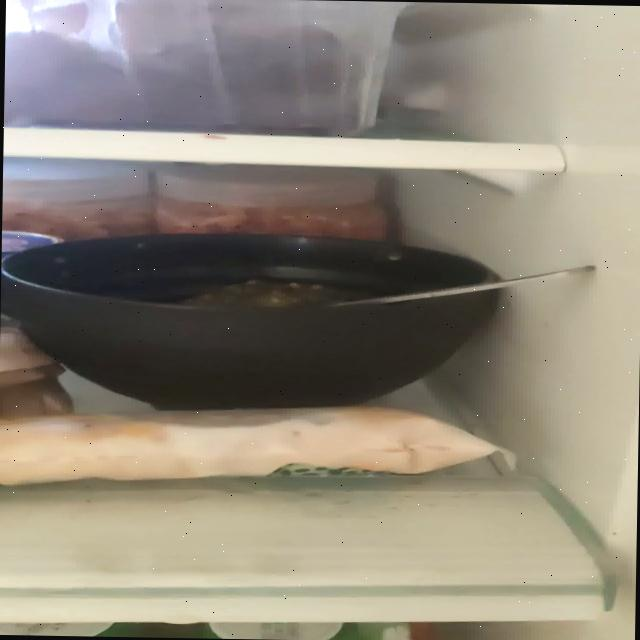tempeh: (0, 398, 505, 494)
